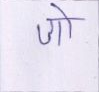o_matra: (60, 7, 75, 38)
